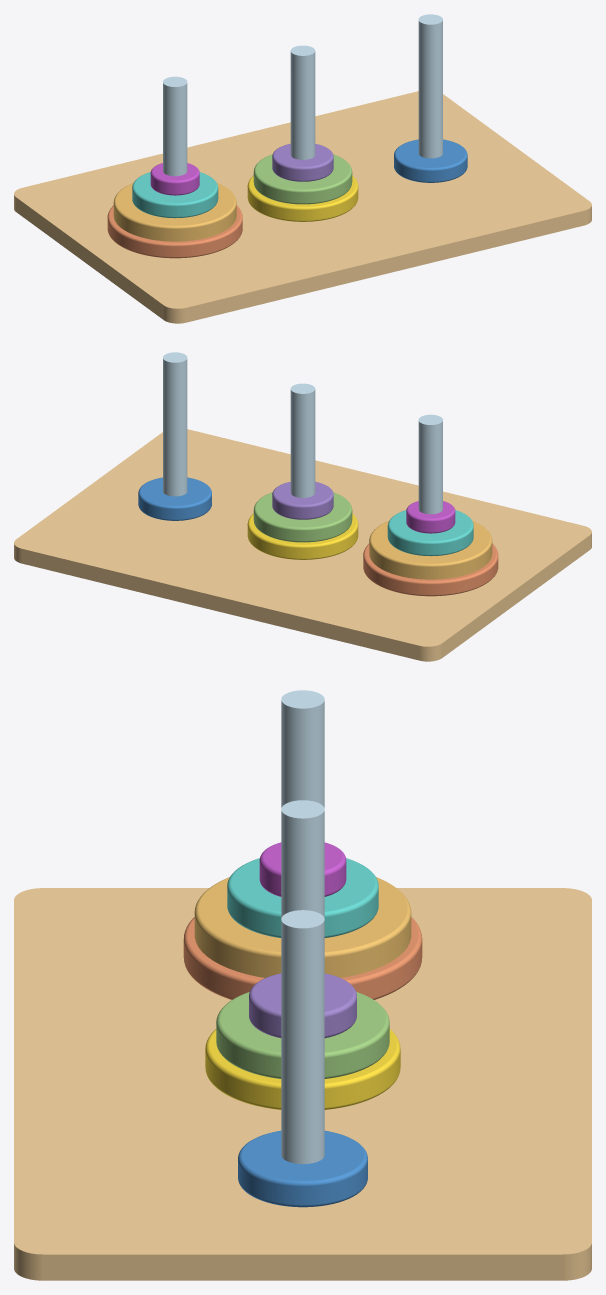
File: sp2_onshape.glb
The picture shows the model from 3 angles, top to bottom: view 1: azimuth 30°, elevation 25°; view 2: azimuth 150°, elevation 25°; view 3: azimuth 270°, elevation 25°; orthographic projection. The views are drawn at different scales.
Visible parts, largest first — view 1: đế, đĩa 2, trụ 3, trụ 2, đĩa 4, đĩa 1, đĩa 5, trụ 1, đĩa 6, đĩa 3, đĩa 7, đĩa 8; view 2: đế, đĩa 2, trụ 3, trụ 2, đĩa 4, đĩa 1, đĩa 5, trụ 1, đĩa 6, đĩa 3, đĩa 7, đĩa 8; view 3: đế, trụ 3, đĩa 2, đĩa 6, đĩa 4, đĩa 5, đĩa 3, trụ 1, trụ 2, đĩa 1, đĩa 7, đĩa 8.
Boxes of the visible parts, x1,y1,x2,y2 form: đế: (14,91,591,323); đĩa 2: (113,183,236,241); trụ 3: (418,14,442,158); trụ 2: (290,45,315,159); đĩa 4: (253,154,352,204); đĩa 1: (107,205,242,258); đĩa 5: (132,172,218,218); trụ 1: (163,76,187,176); đĩa 6: (394,139,467,182); đĩa 3: (247,175,358,221); đĩa 7: (272,143,333,181); đĩa 8: (150,163,199,195); đế: (14,429,591,661); đĩa 2: (369,521,492,579); trụ 3: (163,352,187,496); trụ 2: (290,383,315,497); đĩa 4: (253,492,352,542); đĩa 1: (363,543,498,596); đĩa 5: (387,510,473,556); trụ 1: (418,414,442,514); đĩa 6: (138,477,211,520); đĩa 3: (247,513,358,559); đĩa 7: (272,481,333,519); đĩa 8: (406,501,455,533); đế: (14,888,591,1280); trụ 3: (281,910,324,1164); đĩa 2: (194,877,411,977); đĩa 6: (238,1130,367,1207); đĩa 4: (216,992,389,1078); đĩa 5: (227,858,378,937); đĩa 3: (205,1029,400,1109); trụ 1: (281,690,324,807); trụ 2: (281,800,324,917); đĩa 1: (183,917,422,999); đĩa 7: (249,973,356,1038); đĩa 8: (259,842,346,896).
Size of the model in its own units: 0.6 by 0.22 by 0.4.
